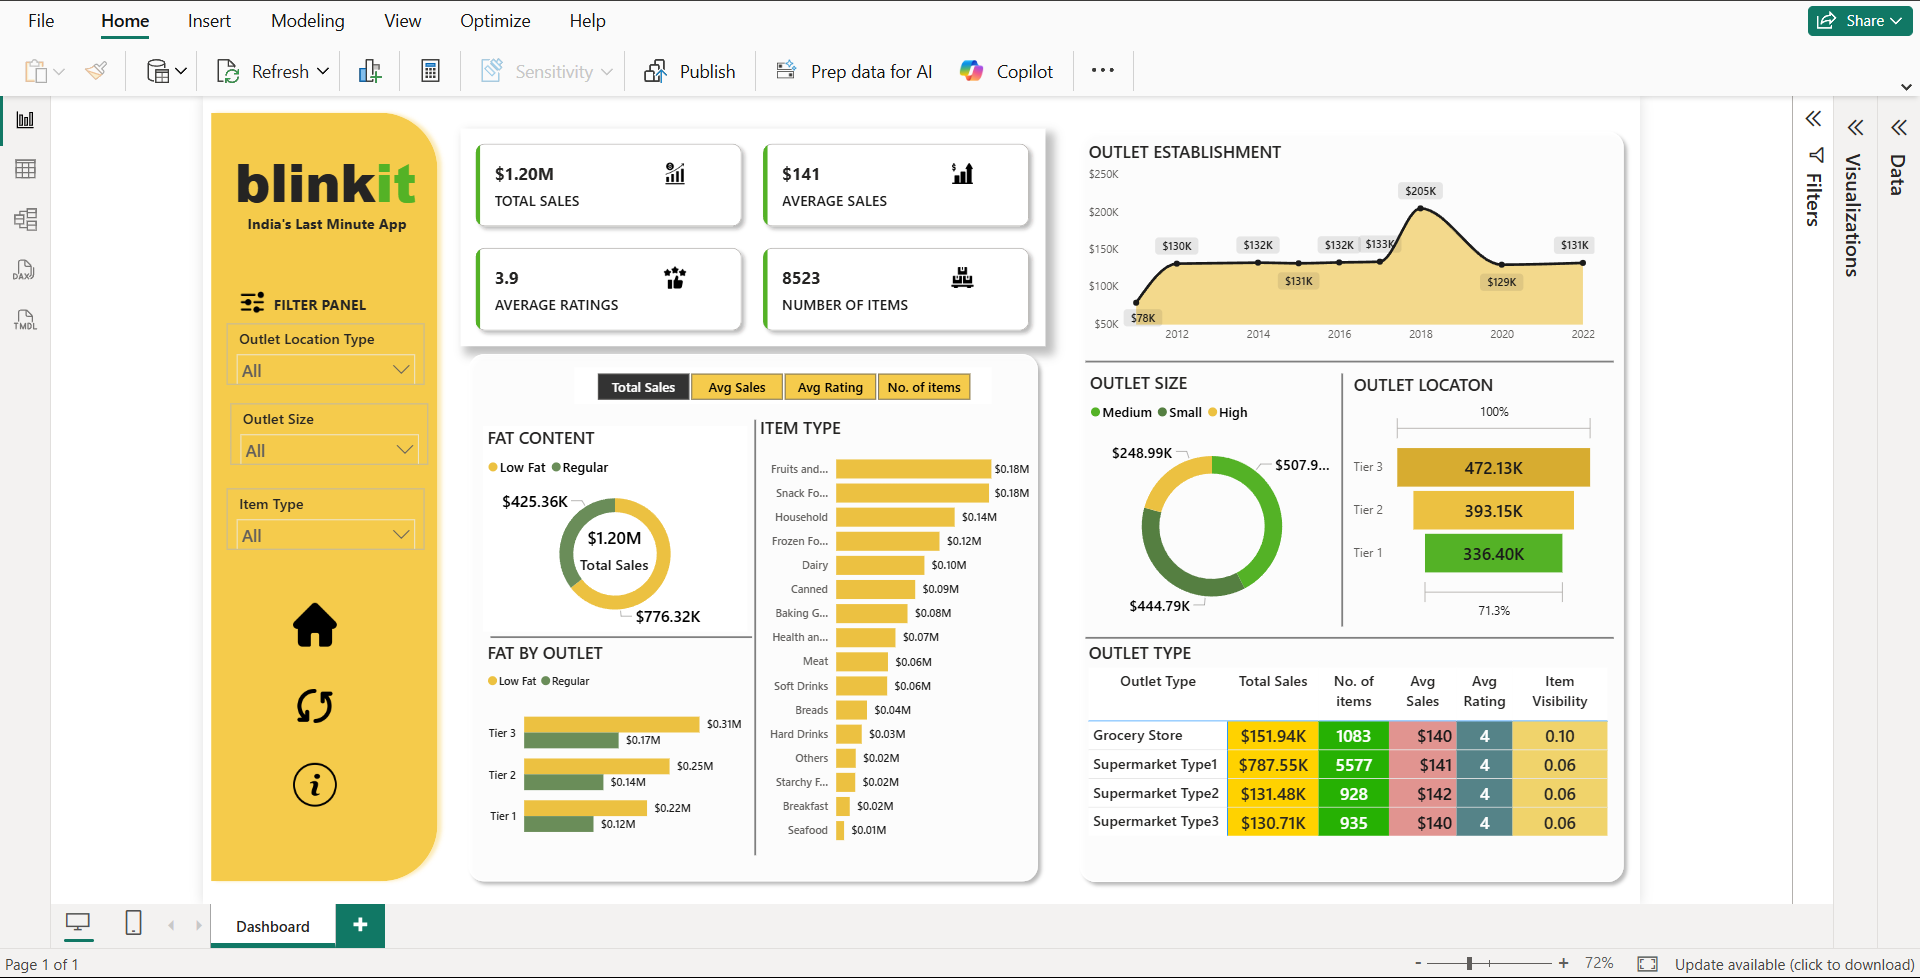

Layout of this report page (visuals, bound fields, positions):
{"tool":"powerbi","page":{"name":"Dashboard","canvas":[1600,900],"ordinal":0},"visuals":[{"type":"shape","box":[0,10,270,873.3],"z":0},{"type":"textbox","box":[30,48.6,232.9,95.7],"z":1000},{"type":"textbox","box":[44.3,125.7,205.7,37.1],"z":2000},{"type":"cardVisual","fields":{"Data":["BlinkIT Grocery Data.Total Sales","BlinkIT Grocery Data.Avg Sales","BlinkIT Grocery Data.Avg Rating","BlinkIT Grocery Data.Number of items"]},"box":[286.5,36.2,651.5,242.8],"z":3000},{"type":"shape","box":[286.7,278.3,651.7,605],"z":4000},{"type":"donutChart","title":"FAT CONTENT","fields":{"Y":["BlinkIT Grocery Data.Total Sales"],"Category":["BlinkIT Grocery Data.Item Fat Content"]},"box":[311.7,367.3,294.3,228.6],"z":5000},{"type":"slicer","fields":{"Values":["Metrics.Metrics"]},"box":[413.2,301.6,464.5,40.7],"z":6000},{"type":"card","fields":{"Values":["BlinkIT Grocery Data.Total Sales"]},"box":[406.7,456.7,103.3,95],"z":7000},{"type":"clusteredBarChart","title":"FAT BY OUTLET","fields":{"Y":["BlinkIT Grocery Data.Total Sales"],"Category":["BlinkIT Grocery Data.Outlet Location Type"],"Series":["BlinkIT Grocery Data.Item Fat Content"]},"box":[311.7,606.7,295,238.3],"z":8000},{"type":"shape","box":[320,580,291.4,44.3],"z":9000},{"type":"shape","box":[595,360,38.3,485],"z":10000},{"type":"barChart","title":"ITEM TYPE","fields":{"Y":["BlinkIT Grocery Data.Total Sales"],"Category":["BlinkIT Grocery Data.Item Type"]},"box":[615,356.7,310,488.3],"z":11000},{"type":"shape","box":[966.7,30,623.3,853.3],"z":12000},{"type":"lineChart","title":"OUTLET ESTABLISHMENT","fields":{"Category":["BlinkIT Grocery Data.Outlet Establishment Year"],"Y":["BlinkIT Grocery Data.Total Sales"]},"box":[981.7,48.3,573.3,235],"z":13000},{"type":"shape","box":[981.7,279,588.1,34.7],"z":14000},{"type":"donutChart","title":"OUTLET SIZE","fields":{"Y":["BlinkIT Grocery Data.Total Sales"],"Category":["BlinkIT Grocery Data.Outlet Size"]},"box":[981.7,301.6,282,289.5],"z":15000},{"type":"shape","box":[1248.3,308.3,40,281.7],"z":16000},{"type":"funnel","title":"OUTLET LOCATION","fields":{"Y":["Sum(BlinkIT Grocery Data.Sales)"],"Category":["BlinkIT Grocery Data.Outlet Location Type"]},"box":[1275.8,297.1,277.5,280.5],"z":17000},{"type":"shape","box":[981.7,571.6,588.1,34.7],"z":18000},{"type":"pivotTable","title":"OUTLET TYPE","fields":{"Rows":["BlinkIT Grocery Data.Outlet Type"],"Values":["BlinkIT Grocery Data.Total Sales","BlinkIT Grocery Data.No. of items","BlinkIT Grocery Data.Avg Sales","BlinkIT Grocery Data.Avg Rating","Avg(BlinkIT Grocery Data.Item Visibility)"]},"box":[984.8,591.2,588.1,282],"z":19000},{"type":"slicer","fields":{"Values":["BlinkIT Grocery Data.Outlet Location Type"]},"box":[26.7,253.3,220,68.3],"z":20000},{"type":"slicer","fields":{"Values":["BlinkIT Grocery Data.Outlet Size"]},"box":[30,341.7,220,68.3],"z":21000},{"type":"slicer","fields":{"Values":["BlinkIT Grocery Data.Item Type"]},"box":[26.7,436.7,220,68.3],"z":22000},{"type":"textbox","box":[74.2,215.7,123.7,37.7],"z":23000},{"type":"image","box":[95,559.5,60.3,58.8],"z":24000},{"type":"image","box":[36.5,206.6,37.7,46.7],"z":25000},{"type":"image","box":[95,650,60.3,58.8],"z":26000},{"type":"image","box":[95,737.4,60.3,58.8],"z":28000}]}

Visuals, with their boxes on the page's 1600x900 design canvas (x1, y1, x2, y2). These are canvas units, not pixel positions in the 1920x978 screenshot, which may show the page scaled, cropped or inside an application window:
shape: left=0, top=10, right=270, bottom=883
textbox: left=30, top=49, right=263, bottom=144
textbox: left=44, top=126, right=250, bottom=163
cardVisual - BlinkIT Grocery Data.Total Sales x BlinkIT Grocery Data.Avg Sales: left=286, top=36, right=938, bottom=279
shape: left=287, top=278, right=938, bottom=883
"FAT CONTENT" donutChart: left=312, top=367, right=606, bottom=596
slicer - Metrics.Metrics: left=413, top=302, right=878, bottom=342
card - BlinkIT Grocery Data.Total Sales: left=407, top=457, right=510, bottom=552
"FAT BY OUTLET" clusteredBarChart: left=312, top=607, right=607, bottom=845
shape: left=320, top=580, right=611, bottom=624
shape: left=595, top=360, right=633, bottom=845
"ITEM TYPE" barChart: left=615, top=357, right=925, bottom=845
shape: left=967, top=30, right=1590, bottom=883
"OUTLET ESTABLISHMENT" lineChart: left=982, top=48, right=1555, bottom=283
shape: left=982, top=279, right=1570, bottom=314
"OUTLET SIZE" donutChart: left=982, top=302, right=1264, bottom=591
shape: left=1248, top=308, right=1288, bottom=590
"OUTLET LOCATION" funnel: left=1276, top=297, right=1553, bottom=578
shape: left=982, top=572, right=1570, bottom=606
"OUTLET TYPE" pivotTable: left=985, top=591, right=1573, bottom=873
slicer - BlinkIT Grocery Data.Outlet Location Type: left=27, top=253, right=247, bottom=322
slicer - BlinkIT Grocery Data.Outlet Size: left=30, top=342, right=250, bottom=410
slicer - BlinkIT Grocery Data.Item Type: left=27, top=437, right=247, bottom=505
textbox: left=74, top=216, right=198, bottom=253
image: left=95, top=560, right=155, bottom=618
image: left=36, top=207, right=74, bottom=253
image: left=95, top=650, right=155, bottom=709
image: left=95, top=737, right=155, bottom=796
